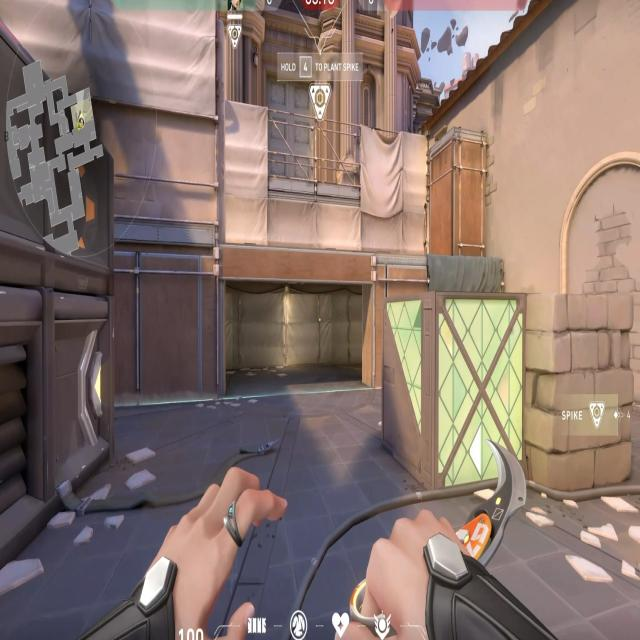A_Heaven_Box: (424, 121, 492, 258)
A_Hell: (212, 236, 382, 408)
A_Site_Box: (374, 292, 637, 513)
